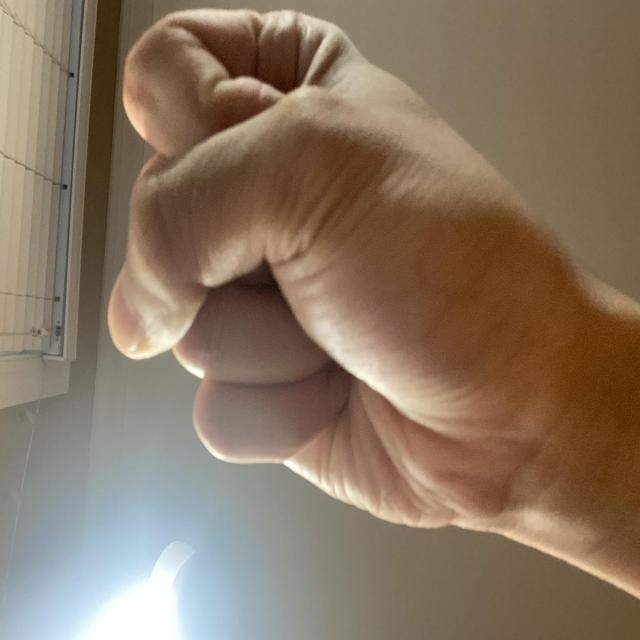S: (78, 135, 480, 640)
